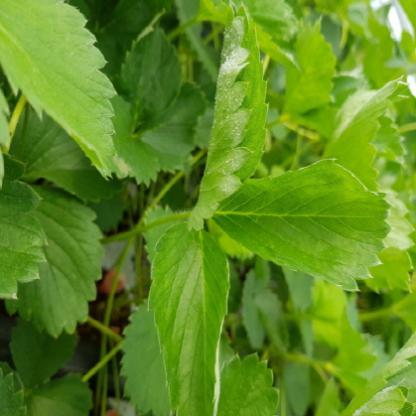Strawberry_Powdery_Mildew_Leaf: (187, 0, 269, 232)
